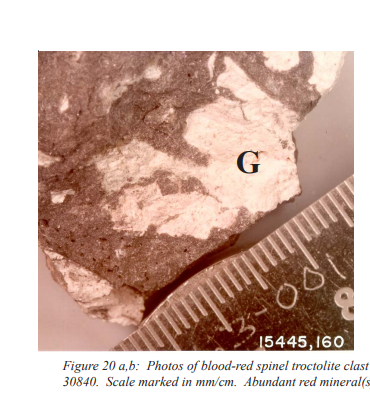Breccia: (37, 60, 312, 266)
